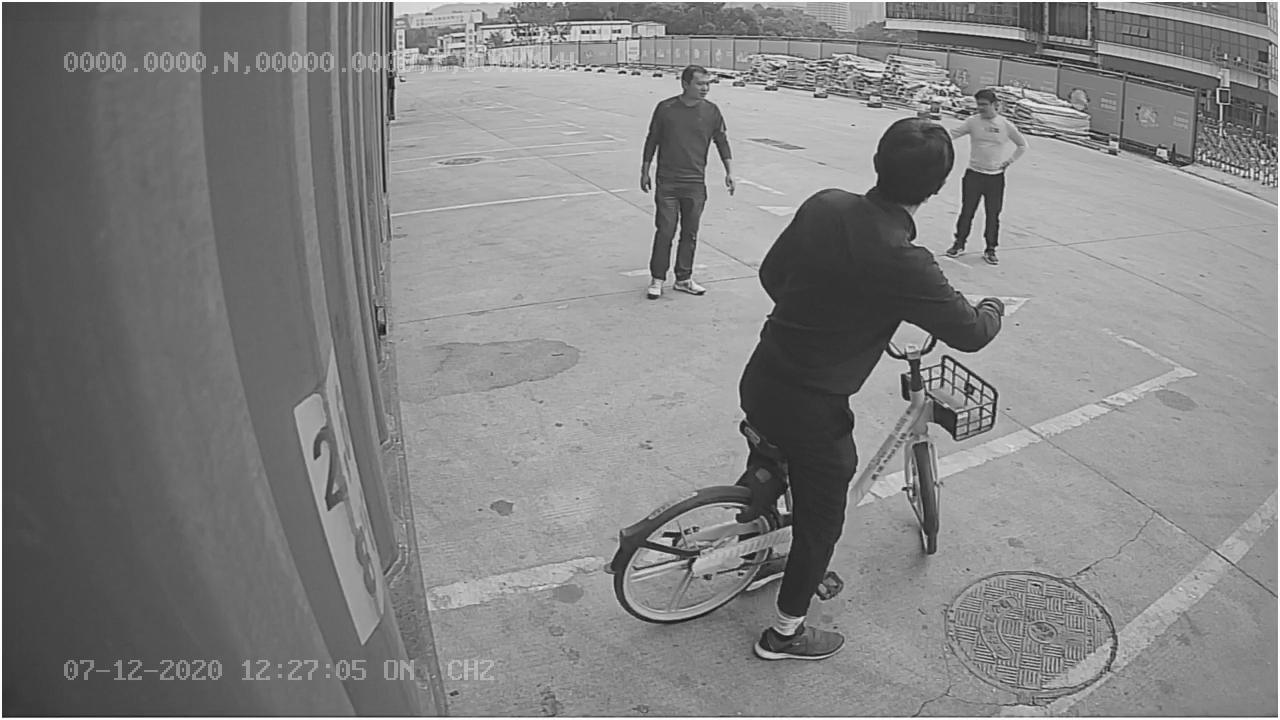person: (635, 62, 740, 299)
